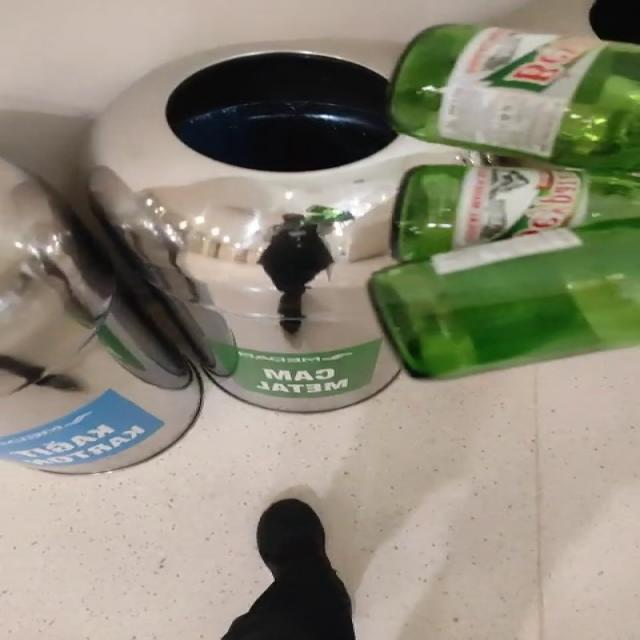Bin: (91, 39, 464, 412)
Glass: (369, 24, 640, 378)
